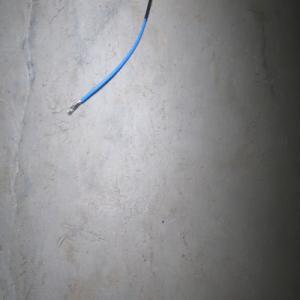Wire: (66, 0, 152, 115)
